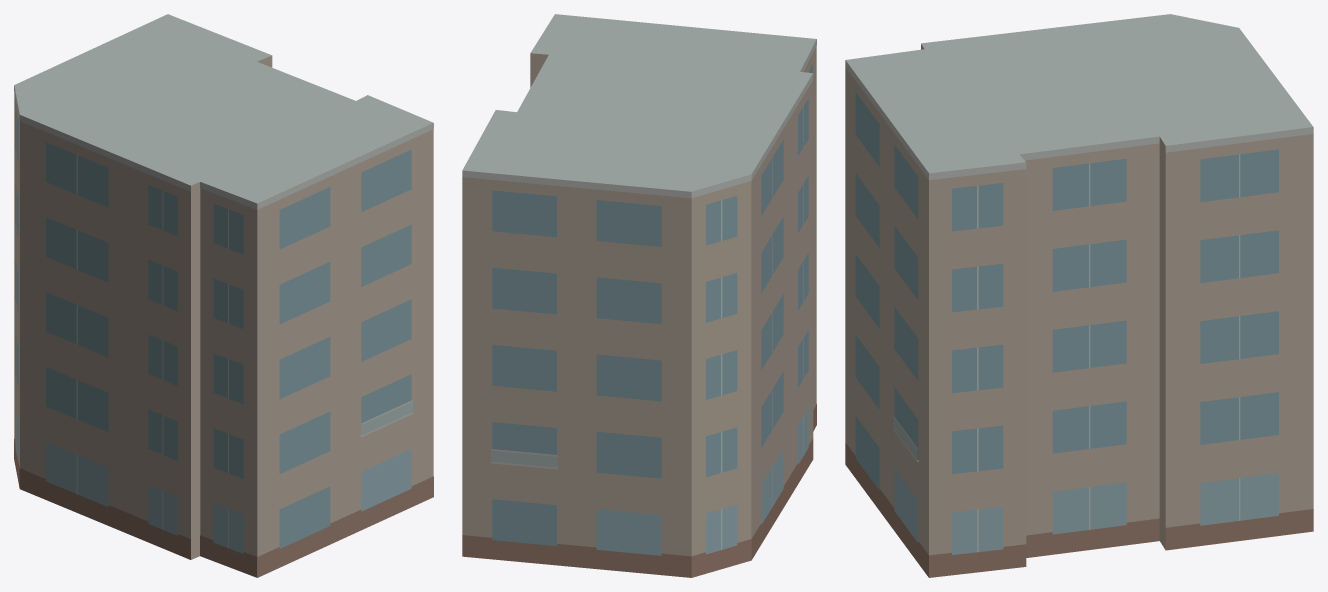
File: survey-upis-32881067.glb
3 views of the same model, side by side, from view 1: azimuth 30°, elevation 25°; view 2: azimuth 150°, elevation 25°; view 3: azimuth 270°, elevation 25° (orthographic). The views are drawn at different scales.
Visible parts, largest first — view 1: survey-upis-32881067.tmp; view 2: survey-upis-32881067.tmp; view 3: survey-upis-32881067.tmp.
Part boxes in pixels (<box>): survey-upis-32881067.tmp: <box>14,14,433,577</box>; survey-upis-32881067.tmp: <box>462,14,816,577</box>; survey-upis-32881067.tmp: <box>845,14,1313,577</box>.
Bounding box in the file's own units: 12.22 × 14.45 × 15.17.
